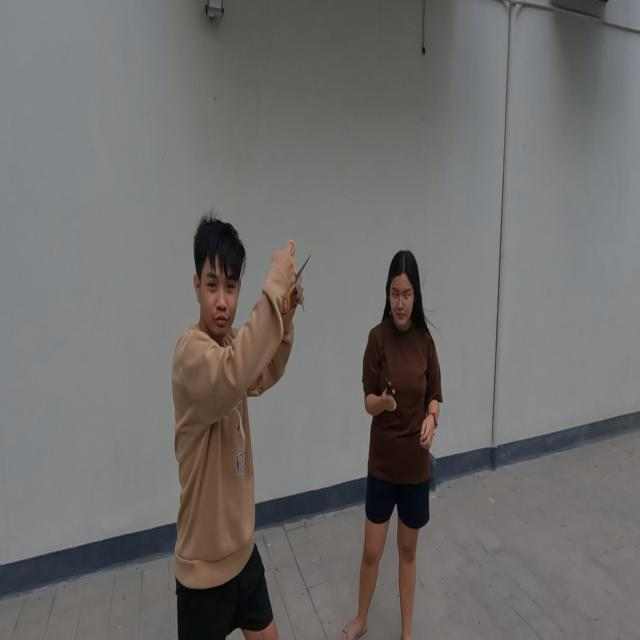scissor: (280, 238, 312, 312)
